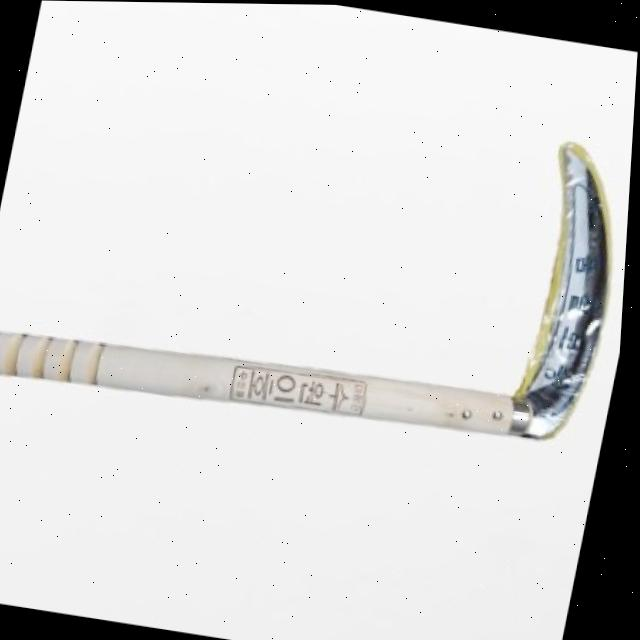sickle: (0, 33, 638, 488)
